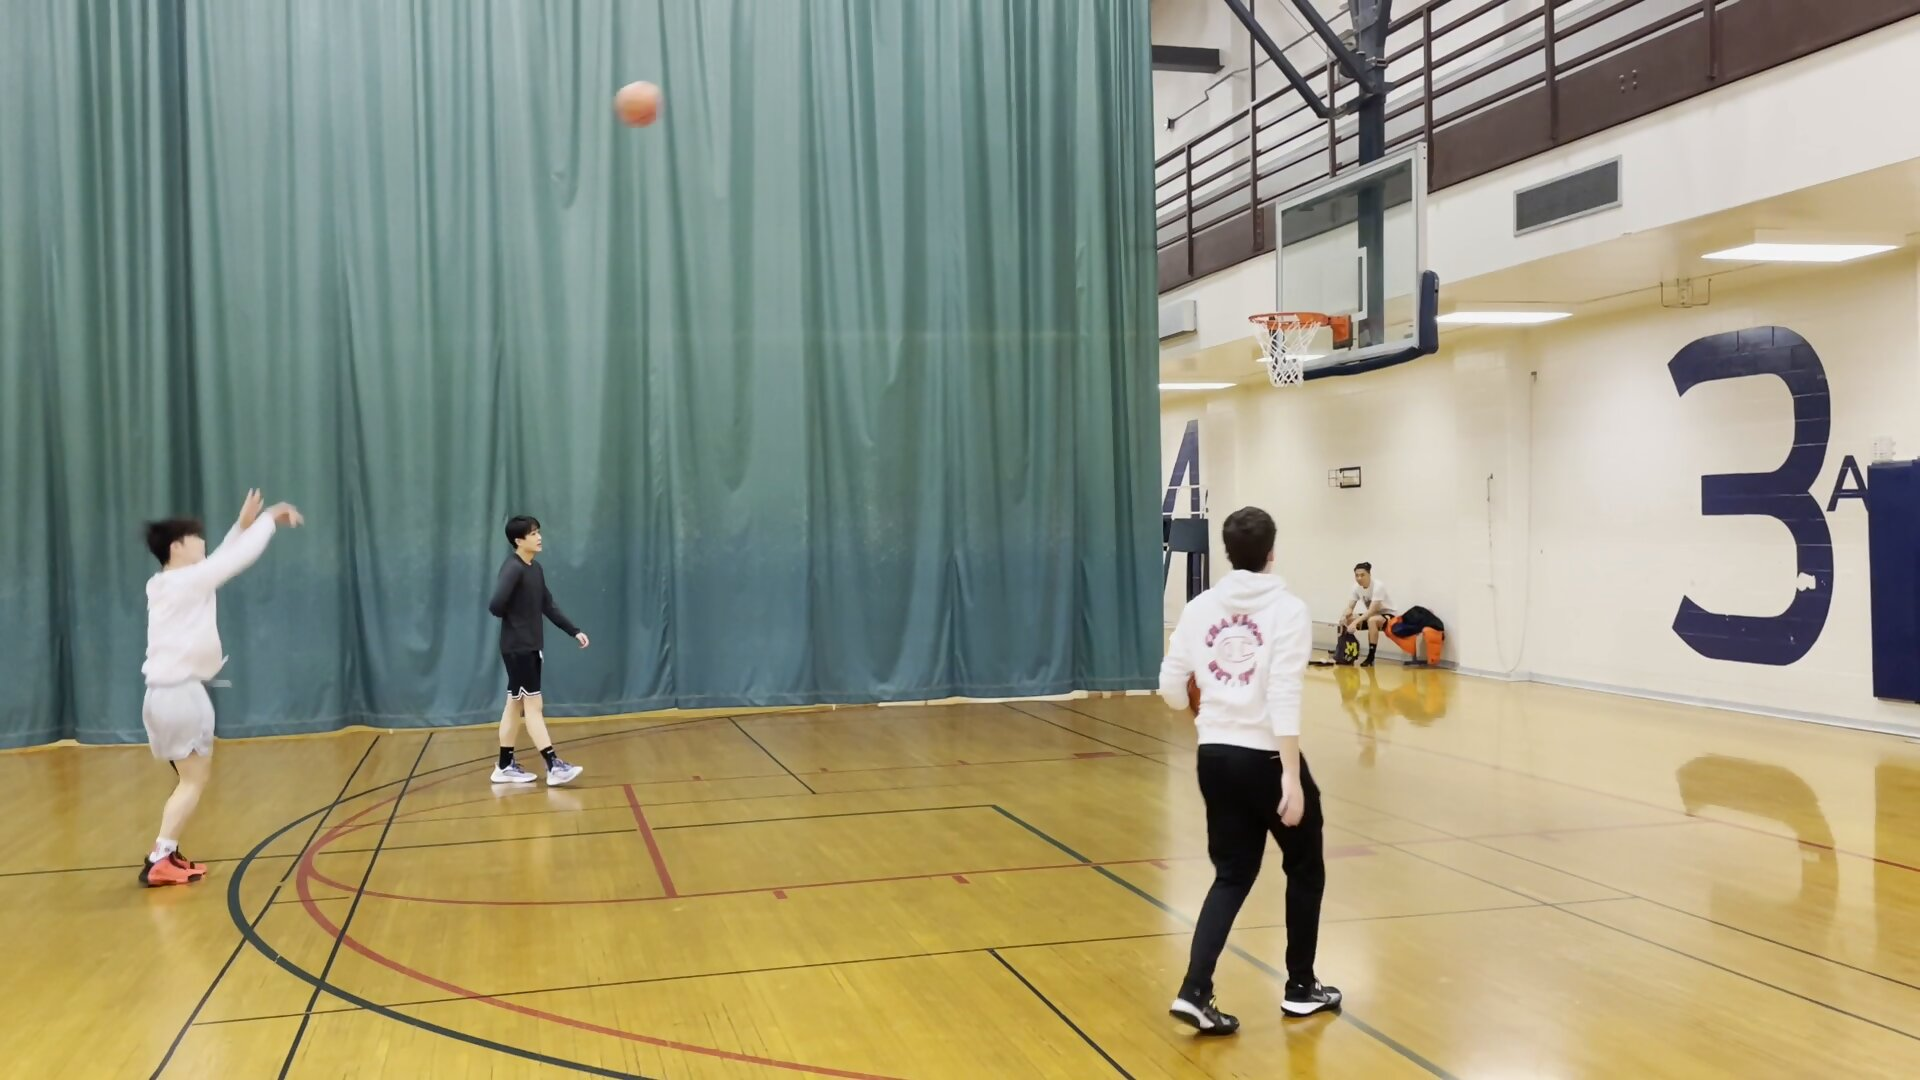ball: (603, 73, 676, 136)
net: (1251, 350, 1315, 391)
player: (1167, 505, 1350, 1034), (134, 488, 307, 897), (486, 514, 593, 791), (1339, 564, 1393, 674)
rim: (1243, 307, 1344, 331)
